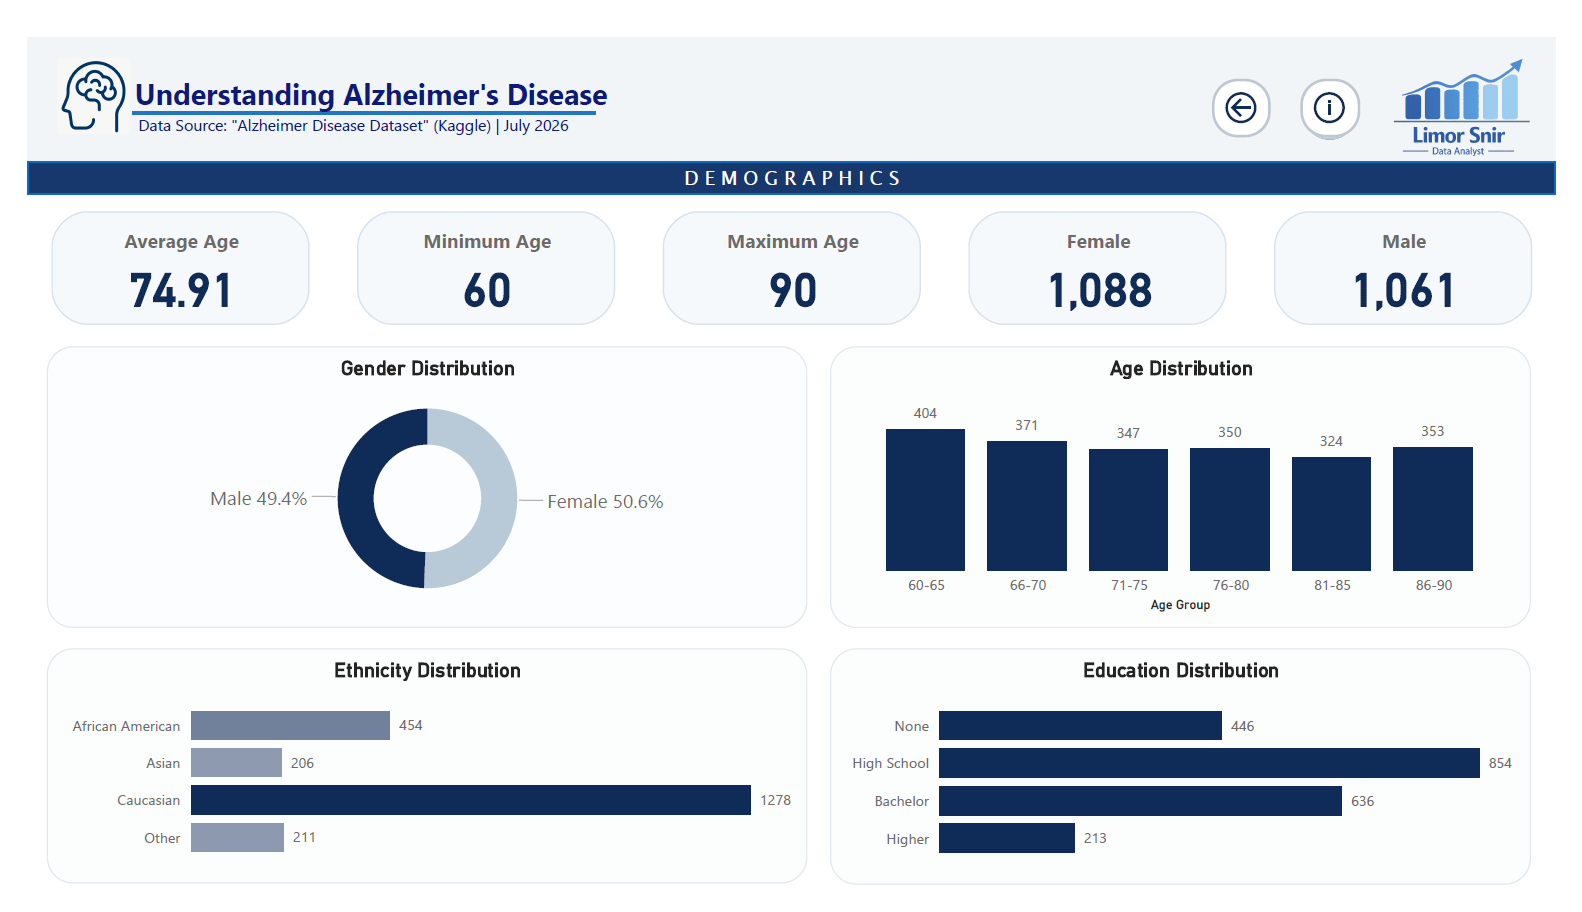

This screenshot's page, from the dashboard's own definition file:
{"tool":"powerbi","page":{"name":"Demographics","canvas":[1280,720],"ordinal":1},"visuals":[{"type":"clusteredBarChart","title":"Education Distribution","fields":{"Category":["alzheimers_disease_data.Education"],"Y":["CountNonNull(alzheimers_disease_data.PatientID)"]},"box":[671.9,519.1,586.7,197.4],"z":0},{"type":"clusteredBarChart","title":" Ethnicity Distribution","fields":{"Category":["alzheimers_disease_data.Ethnicity"],"Y":["CountNonNull(alzheimers_disease_data.PatientID)"]},"box":[15.6,519,637.7,196.9],"z":1000},{"type":"shape","title":"Title Line","box":[0,79.8,1280,69.8],"z":2000},{"type":"shape","title":"General Legend","box":[87.7,0,388.2,140.5],"z":3000},{"type":"image","box":[1129.7,18.1,141.9,93.2],"z":4000},{"type":"textbox","title":"main TITLE","box":[0,7.1,1280,108.3],"z":5000},{"type":"image","title":"Alz IMAGE","box":[15.9,19.6,78.3,73.4],"z":6000},{"type":"shape","title":"Page Title","box":[0,110.9,1280,28.4],"z":7000},{"type":"cardVisual","fields":{"Data":["Avg(alzheimers_disease_data.Age)","Min(alzheimers_disease_data.Age)","Max(alzheimers_disease_data.Age)","!measures.Female","!measures.Male"]},"box":[0,152.8,1280.3,101.4],"z":8000},{"type":"clusteredColumnChart","title":"Age Distribution","fields":{"Category":["alzheimers_disease_data.Age Groups"],"Y":["CountNonNull(alzheimers_disease_data.PatientID)"]},"box":[671.9,266.3,586.7,235.2],"z":9000},{"type":"donutChart","title":"Gender Distribution","fields":{"Category":["alzheimers_disease_data.Gender"],"Y":["CountNonNull(alzheimers_disease_data.PatientID)"]},"box":[15.6,266,637.7,236],"z":10000},{"type":"actionButton","box":[992,41.9,49.2,49.2],"z":11000},{"type":"actionButton","box":[1067.5,43.2,46.5,49.8],"z":12000},{"type":"actionButton","box":[1065.8,41.5,49.8,49.8],"z":17000}]}

Visuals, with their boxes in screenshot pixels (x1, y1, x2, y2), scaled from the page's 1280x720 canvas onto the 1582x912 screenshot:
"Education Distribution" clusteredBarChart: [left=830, top=658, right=1556, bottom=908]
" Ethnicity Distribution" clusteredBarChart: [left=19, top=657, right=807, bottom=907]
"Title Line" shape: [left=0, top=101, right=1581, bottom=189]
"General Legend" shape: [left=108, top=0, right=588, bottom=178]
image: [left=1396, top=23, right=1572, bottom=141]
"main TITLE" textbox: [left=0, top=9, right=1581, bottom=146]
"Alz IMAGE" image: [left=20, top=25, right=116, bottom=118]
"Page Title" shape: [left=0, top=140, right=1581, bottom=176]
cardVisual - Avg(alzheimers_disease_data.Age) x Min(alzheimers_disease_data.Age): [left=0, top=194, right=1581, bottom=322]
"Age Distribution" clusteredColumnChart: [left=830, top=337, right=1556, bottom=635]
"Gender Distribution" donutChart: [left=19, top=337, right=807, bottom=636]
actionButton: [left=1226, top=53, right=1287, bottom=115]
actionButton: [left=1319, top=55, right=1377, bottom=118]
actionButton: [left=1317, top=53, right=1379, bottom=116]
